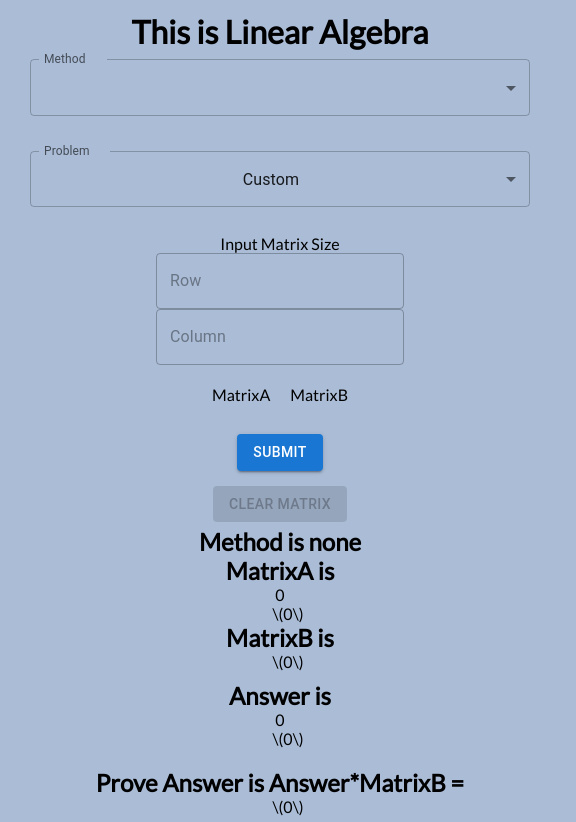
user can input custom matrix
Replace the text in the field with test id "select-method" with "cramerRule" at (280, 88), box [30,59,530,116]
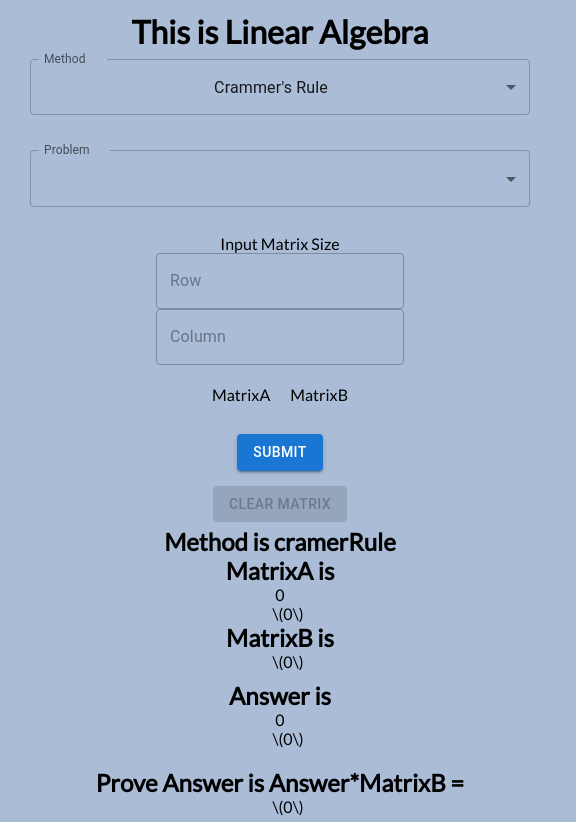
Replace the text in the field with test id "select-problem" with "Custom" at (280, 178), box [30,150,530,207]
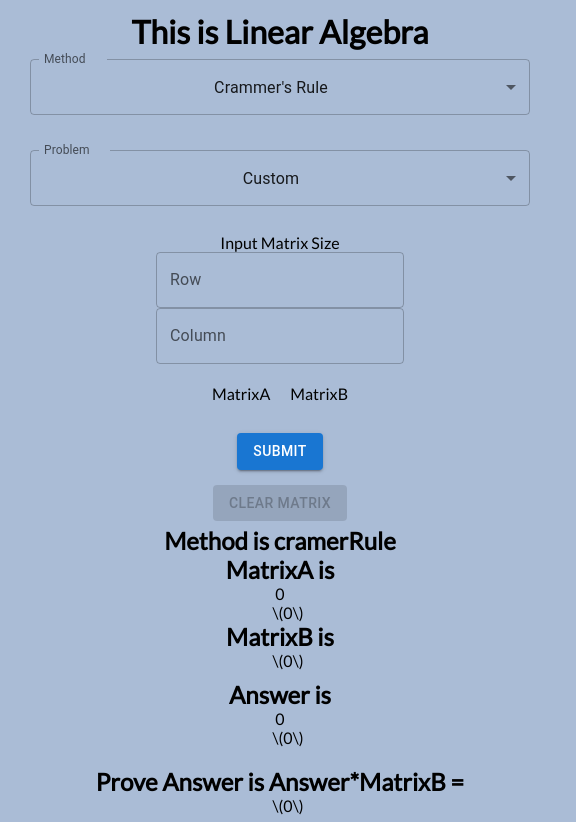
Type "4" into the field with test id "row-input" at (280, 280), box [156,252,404,308]
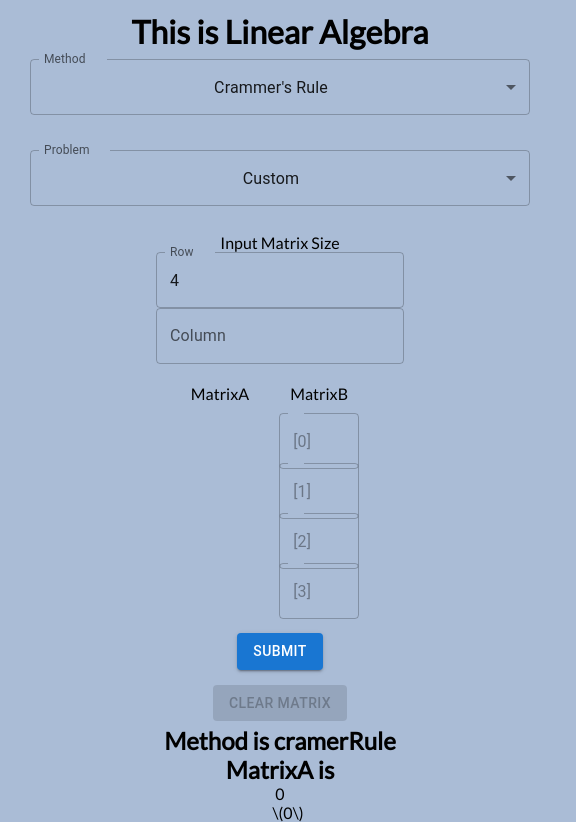
Type "4" into the field with test id "column-input" at (280, 336), box [156,308,404,364]
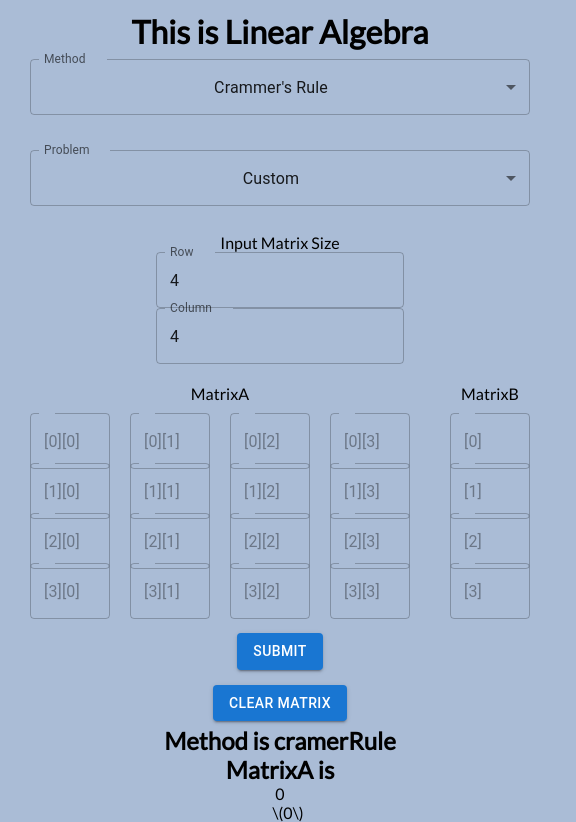
Click the button "Clear Matrix" at (280, 703), box [213,684,347,721]
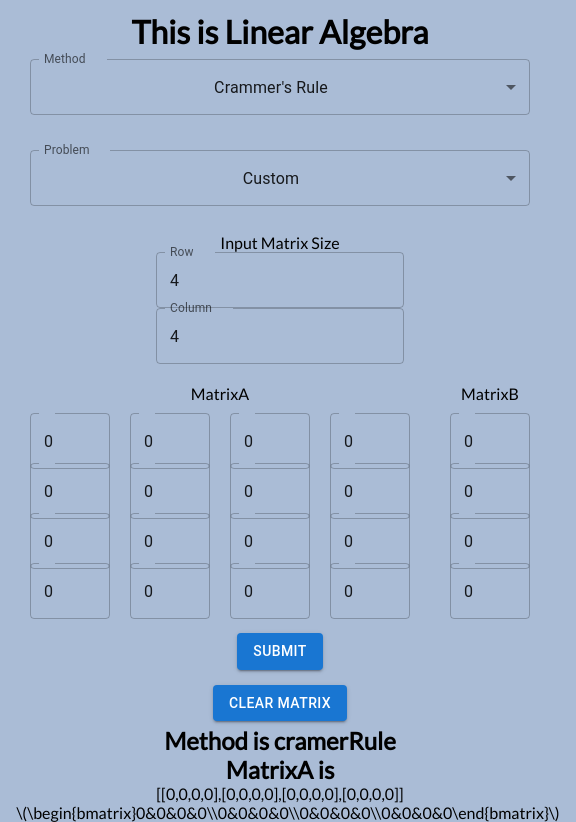
Now the text "[ [0,0,0,0],[0,0,0,0],[0,0,0,0],[0,0,0,0]]" is shown, box [156,784,404,803]
